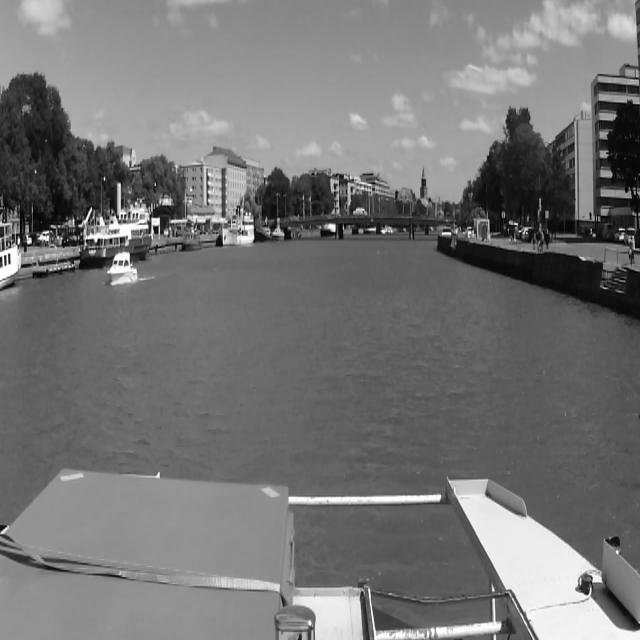ship: (78, 206, 152, 268), (222, 206, 254, 247), (106, 252, 138, 286), (182, 226, 202, 250), (255, 217, 272, 242), (272, 218, 285, 241)
